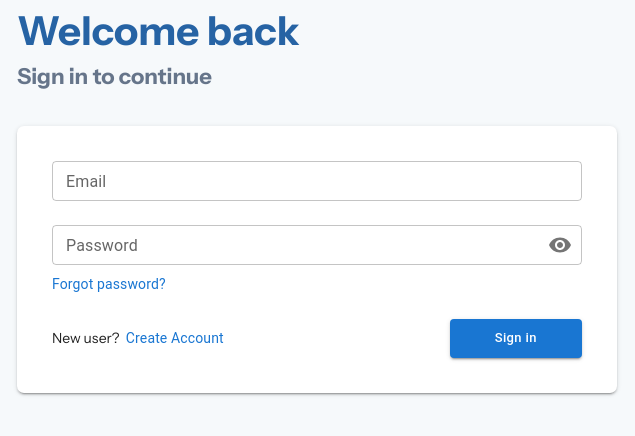
Test case: LoginForm › shows error message for invalid email
Type "a@a" into the field labelled "Email" at (317, 181), box 52,161 -> 582,201
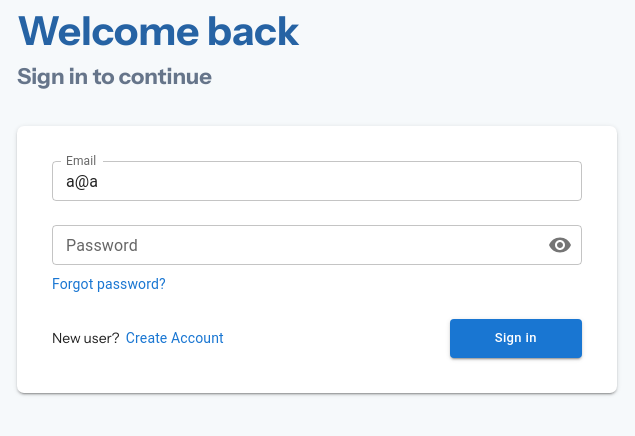
Type "p@s$w0rd" into the password field labelled "Password" at (292, 245), box 52,225 -> 532,265
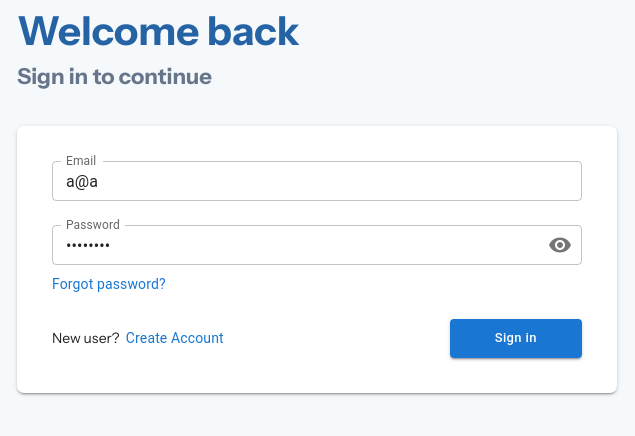
Click the button "Sign in" at (516, 338), box 450,319 -> 582,358
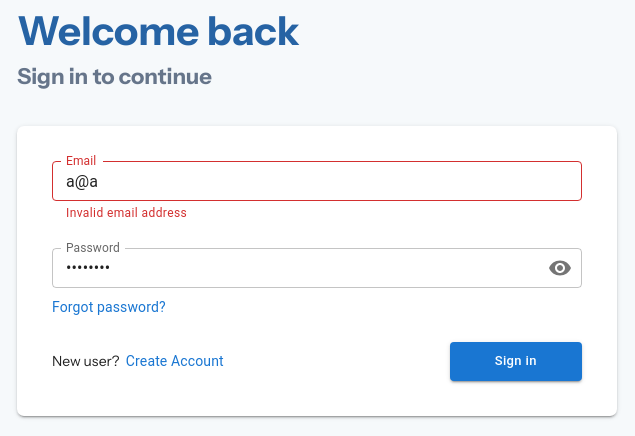
Now the text "Invalid email address" is shown, box 66,206 -> 187,220
